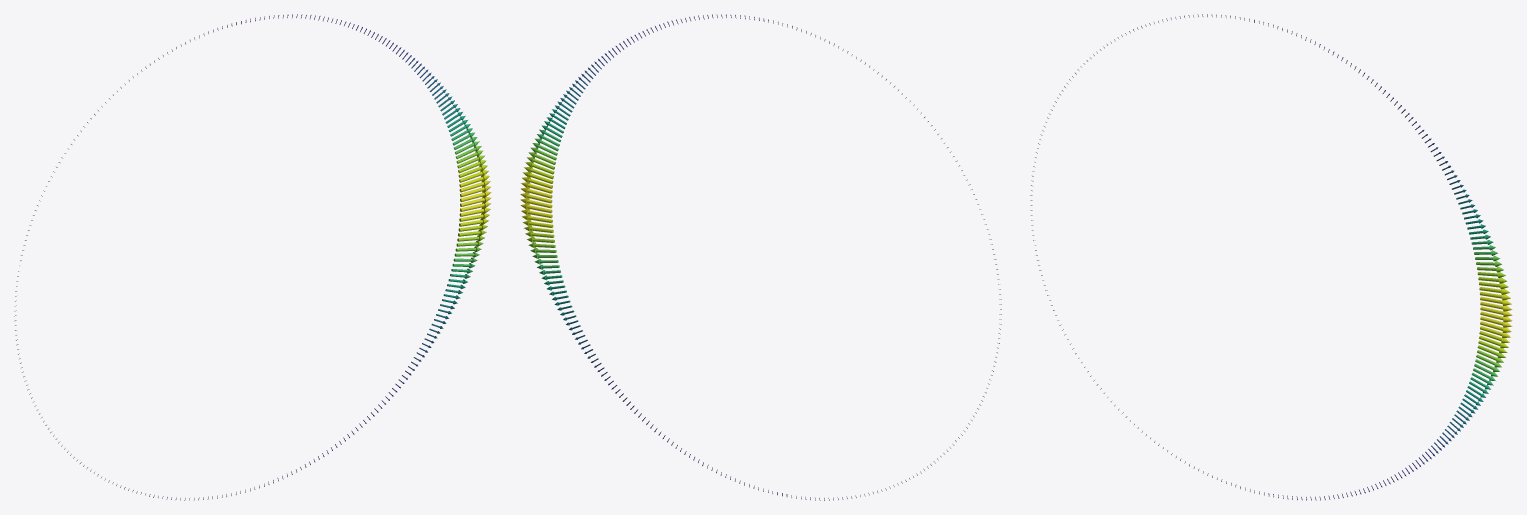
File: coil_8_forces.gltf
3 renders of one model, left to right at view 1: azimuth 30°, elevation 25°; view 2: azimuth 150°, elevation 25°; view 3: azimuth 330°, elevation 25°, orthographic.
Parts seen in each view (by area): view 1: Renderer Node; view 2: Renderer Node; view 3: Renderer Node.
Part boxes in pixels (<box>): Renderer Node: <box>14,14,491,500</box>; Renderer Node: <box>520,14,1001,500</box>; Renderer Node: <box>1030,14,1512,500</box>.
Bounding box in the file's own units: 0.6452 × 0.6091 × 0.00959.
Materials: 1 (1 with a texture image).
